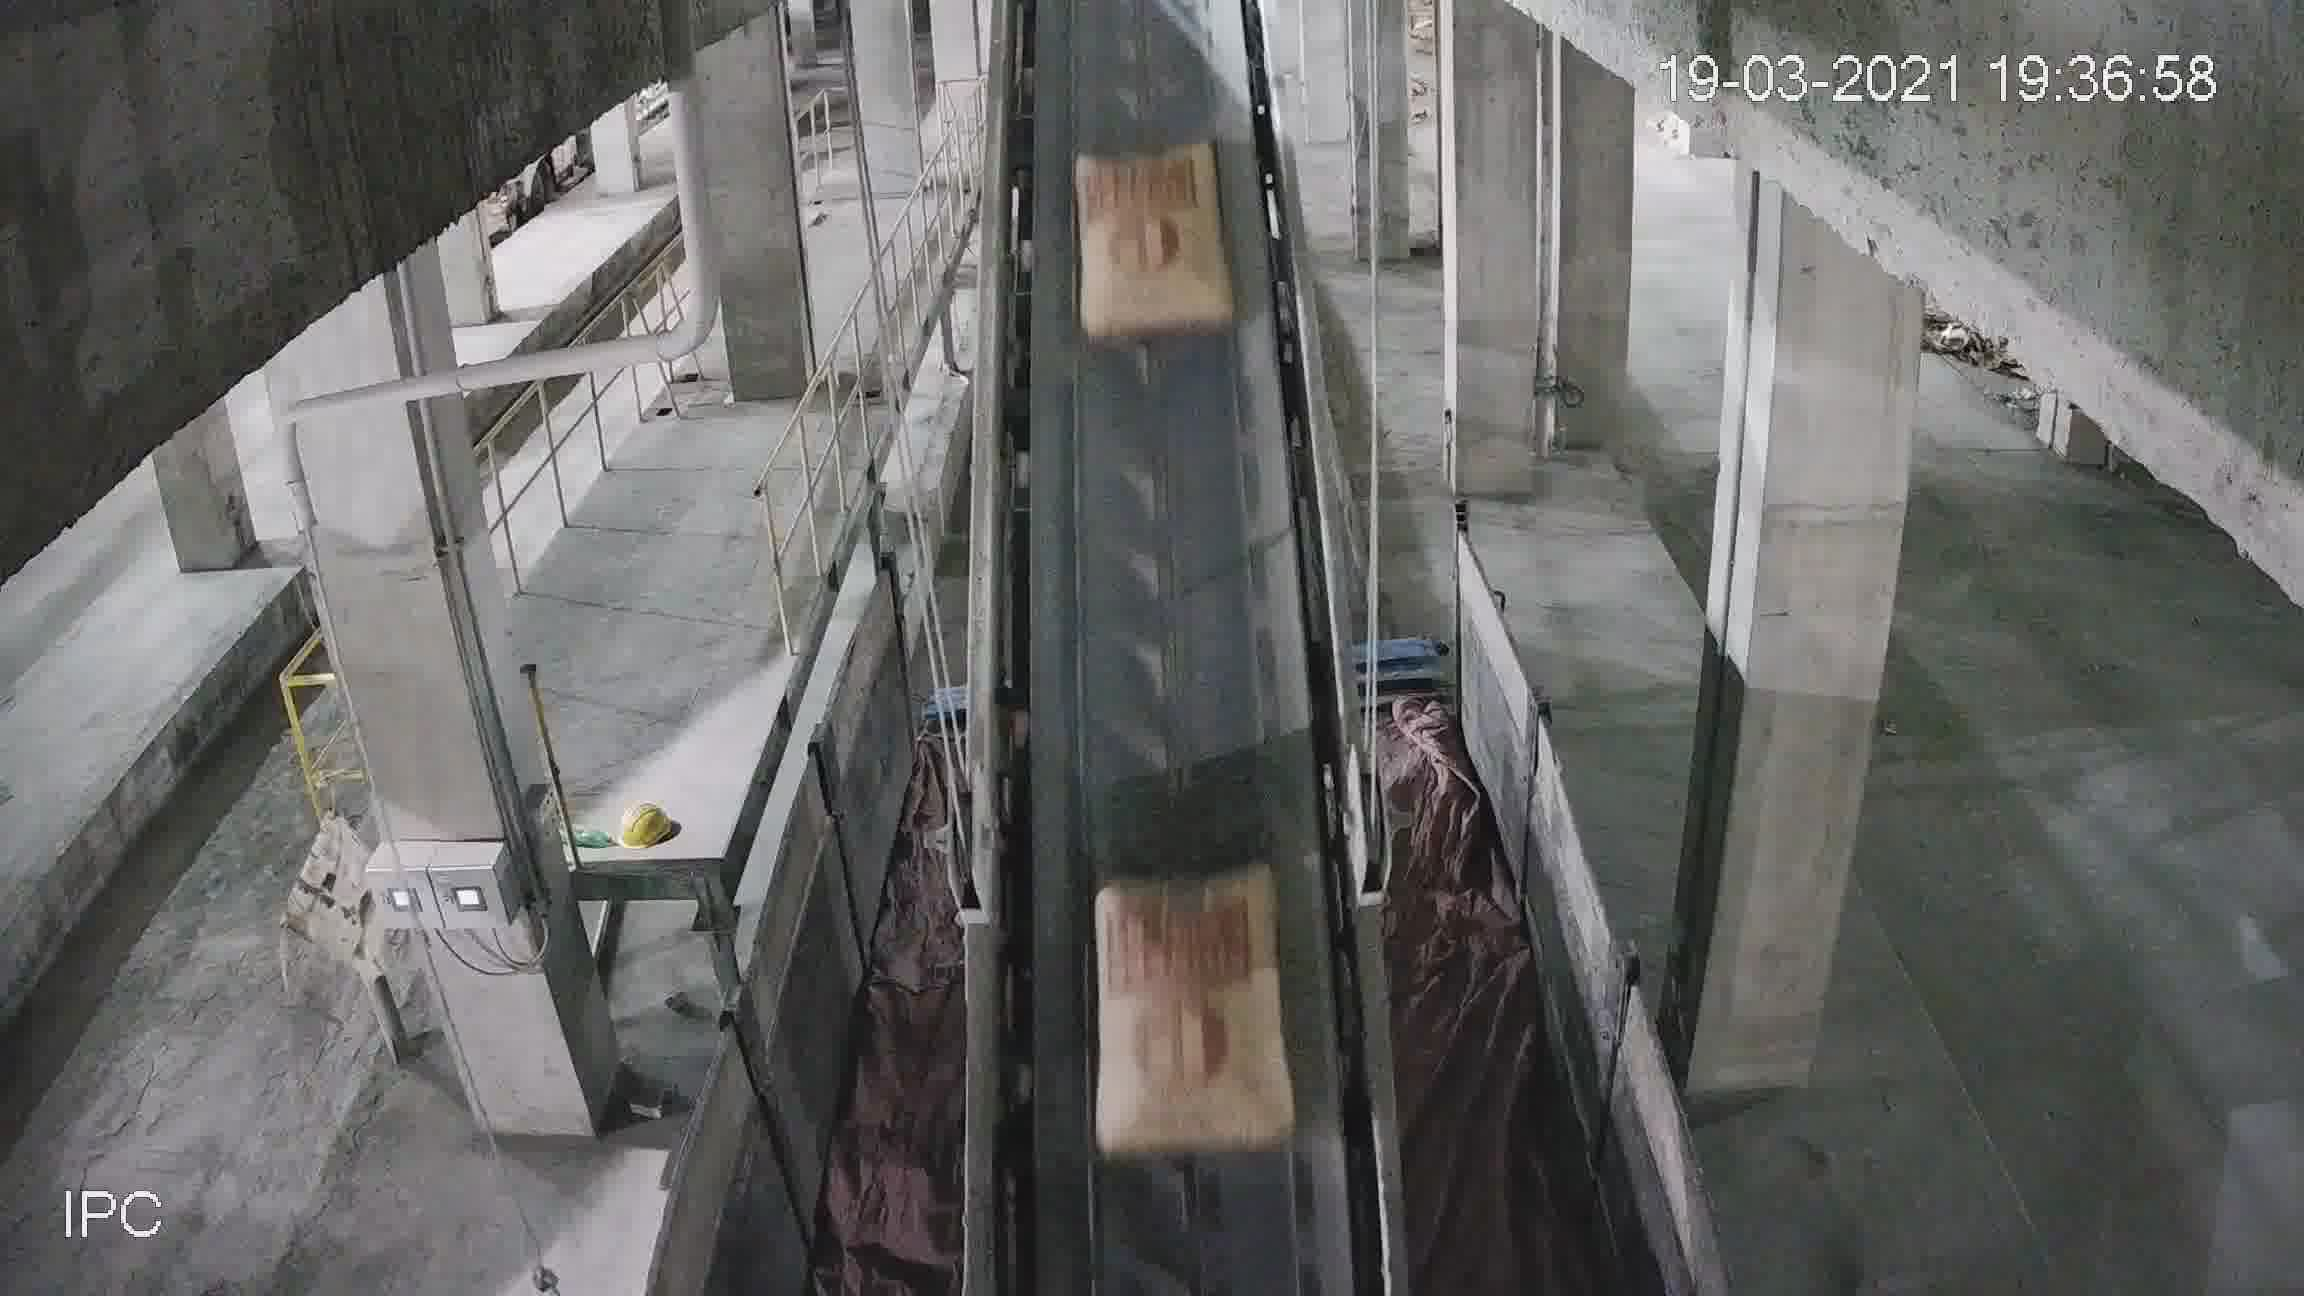bag: (1097, 866, 1290, 1161), (1076, 155, 1225, 331)
belt: (967, 120, 1381, 1203)
